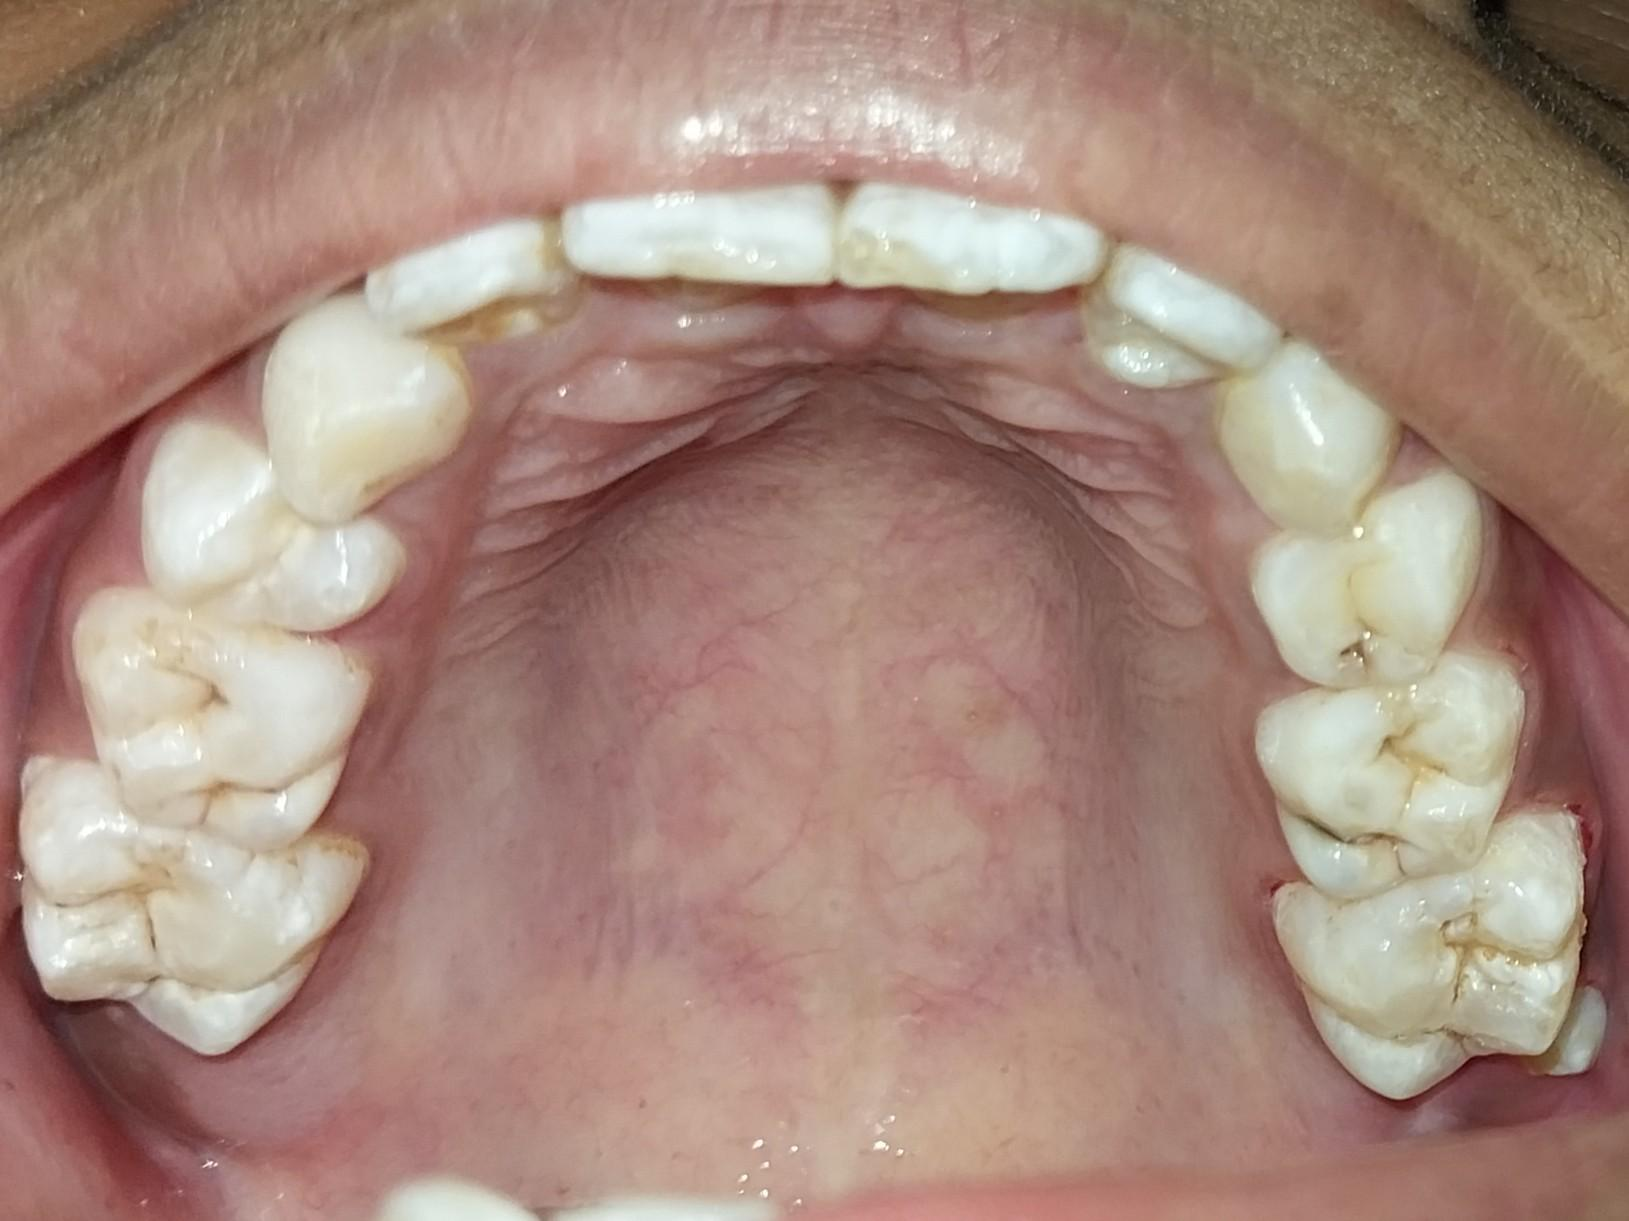d: (1257, 659, 1525, 903), (1250, 479, 1492, 684)
